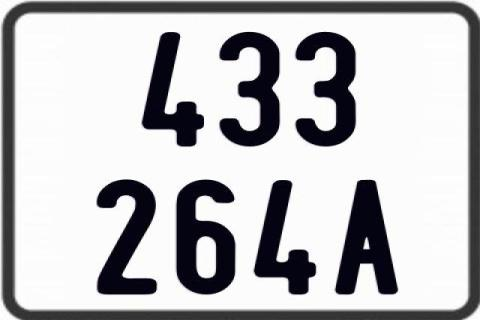0: (141, 32, 209, 150), (253, 180, 321, 295), (220, 30, 284, 150), (173, 180, 237, 294), (97, 177, 159, 293), (296, 31, 356, 149)
A: (333, 178, 402, 294)
